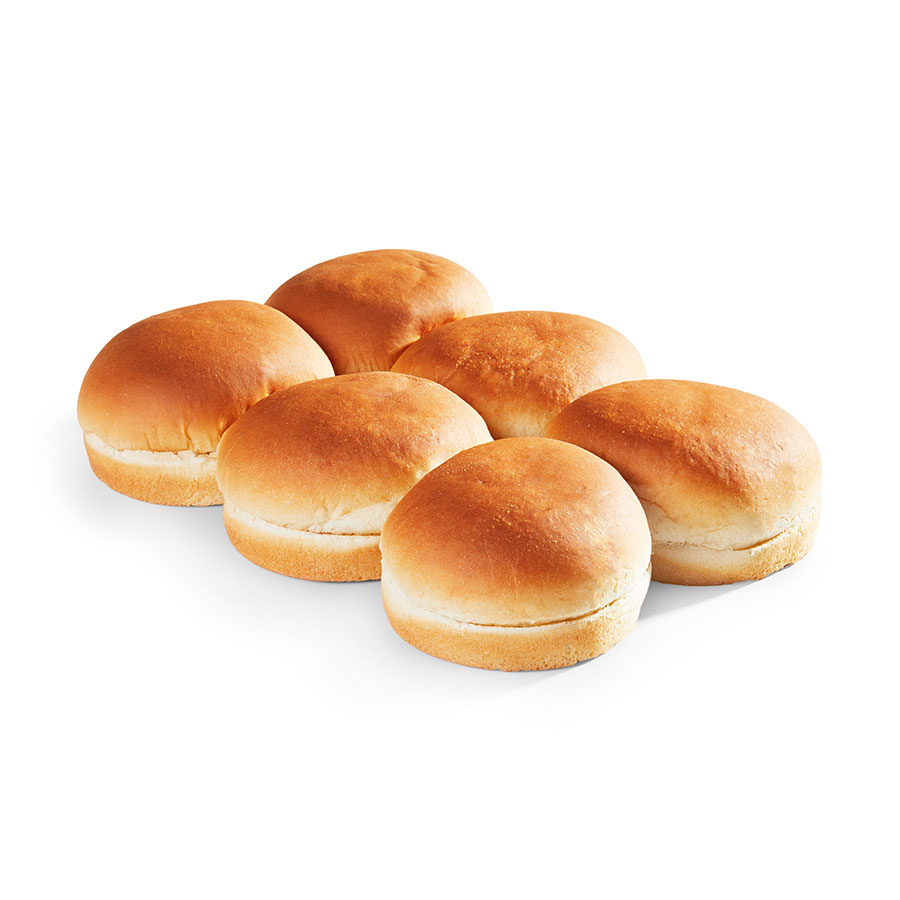hamburger_buns: (109, 242, 816, 694)
